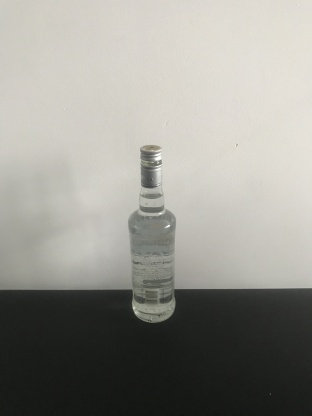nakretka: (139, 144, 163, 188)
